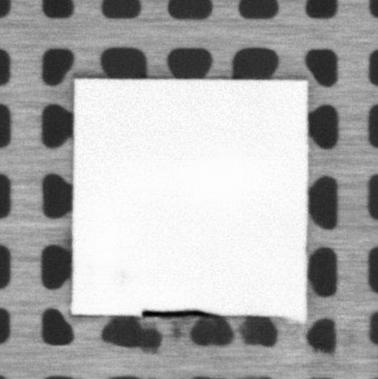DIE_BROKEN: (140, 306, 210, 318)
